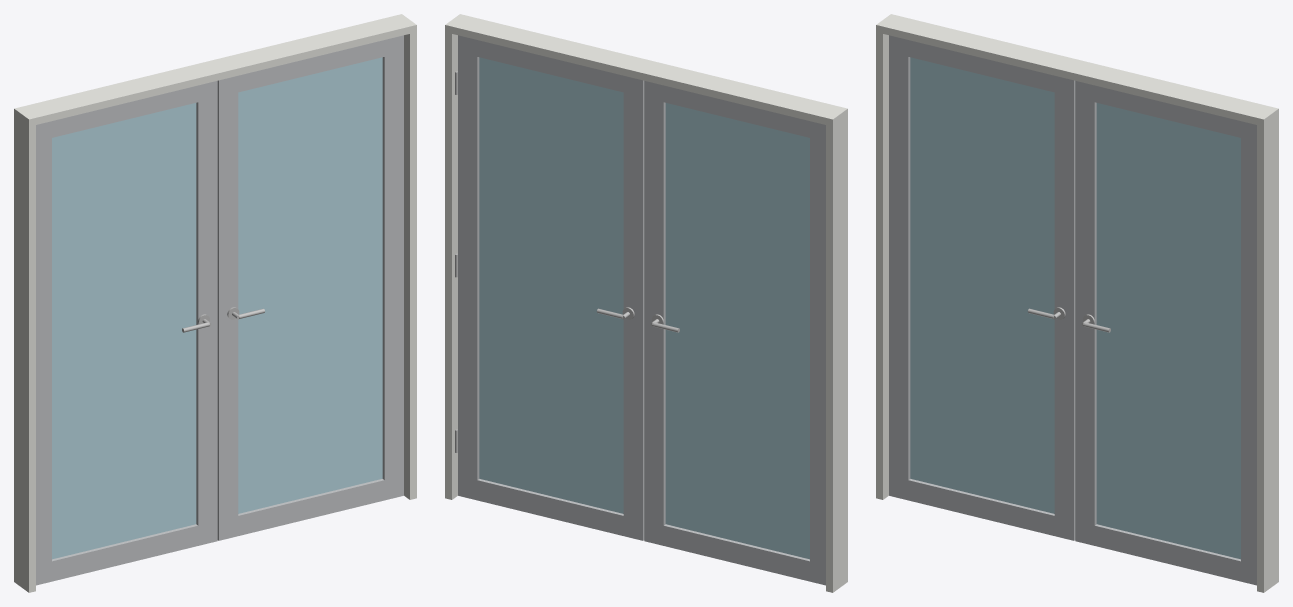
File: opening.door.glazed_double.glb
3 views of the same model, side by side, from view 1: azimuth 30°, elevation 25°; view 2: azimuth 150°, elevation 25°; view 3: azimuth 330°, elevation 25° (orthographic).
Parts seen in each view (by area): view 1: leaf__glass, leaf__aluminium, frame__paint_white; view 2: leaf__glass, leaf__aluminium, frame__paint_white, ironmongery__steel_stainless; view 3: leaf__glass, leaf__aluminium, frame__paint_white.
Boxes of the visible parts, left/top/right/bottom form: leaf__glass: left=52, top=57, right=382, bottom=559; leaf__aluminium: left=36, top=35, right=403, bottom=585; frame__paint_white: left=14, top=14, right=416, bottom=592; leaf__glass: left=479, top=57, right=809, bottom=559; leaf__aluminium: left=458, top=35, right=825, bottom=585; frame__paint_white: left=445, top=14, right=847, bottom=592; ironmongery__steel_stainless: left=455, top=71, right=679, bottom=452; leaf__glass: left=910, top=57, right=1240, bottom=559; leaf__aluminium: left=889, top=35, right=1256, bottom=585; frame__paint_white: left=876, top=14, right=1278, bottom=592.
Bounding box in the file's own units: 1.8 × 2.1 × 0.148.
